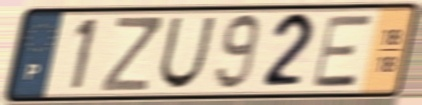1: (67, 15, 102, 94)
2: (255, 10, 321, 94)
9: (210, 11, 262, 94)
E: (310, 13, 375, 90)
U: (156, 15, 219, 92)
Z: (98, 15, 164, 94)
